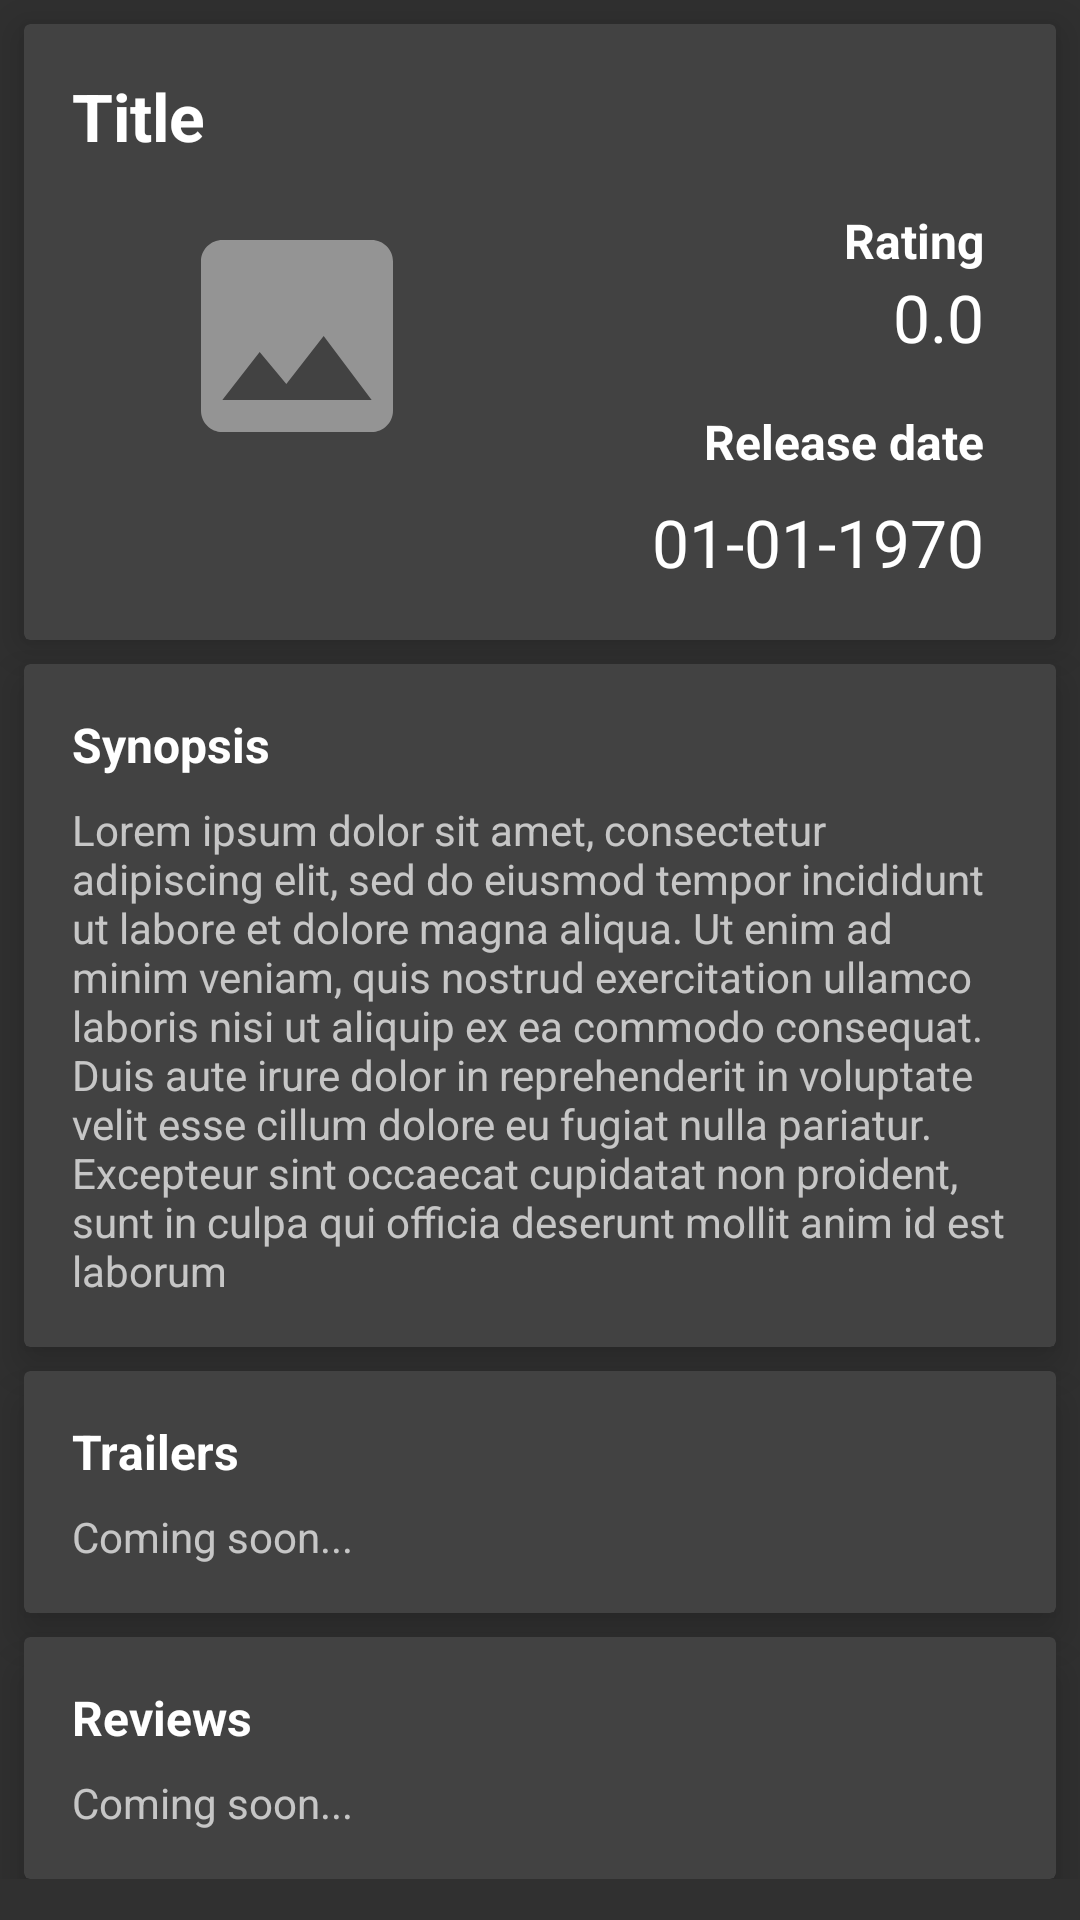

Screen size 1080px×1920px. Icon name, then its box in pixels as bbox=(x1, y1, x2, y2):
photo: bbox=(201, 240, 393, 432)
